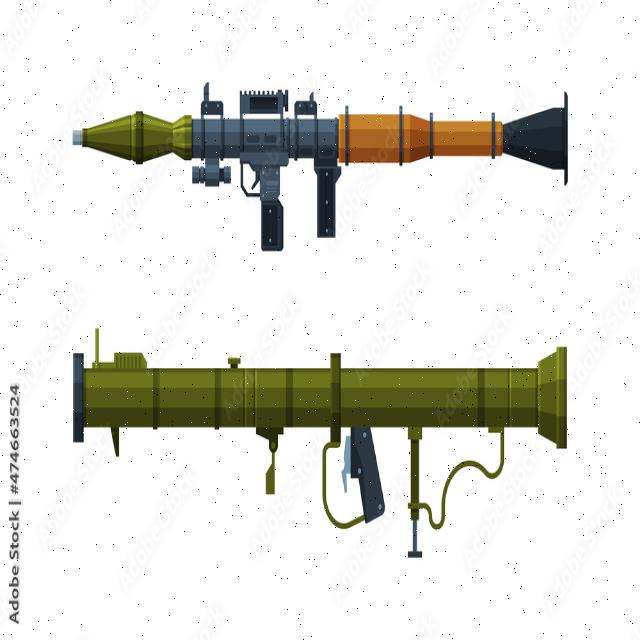bazooka: (71, 324, 576, 566), (69, 83, 575, 261)
